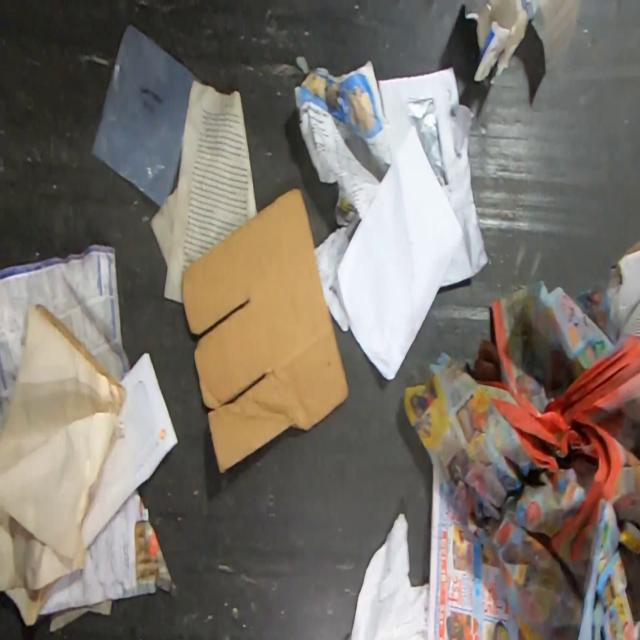cardboard: (181, 187, 350, 474), (462, 0, 581, 112), (609, 240, 640, 333)
soft_plastic: (88, 22, 201, 208)
